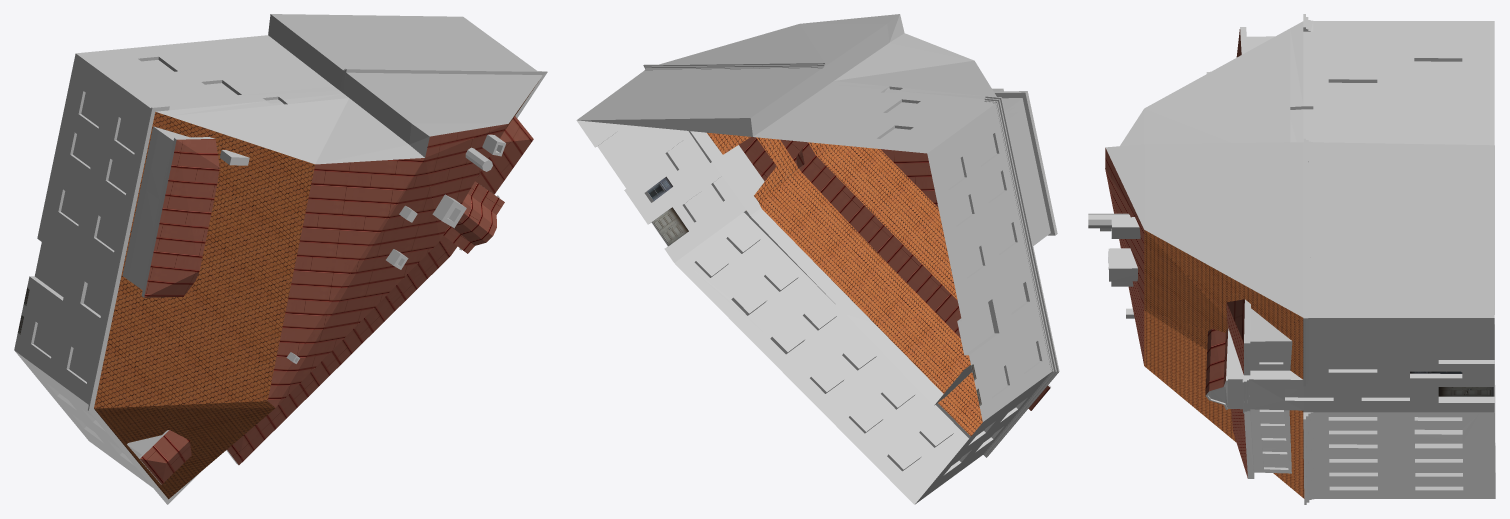
Rendered from Rahukohtu2.obj.
3 views of the same model, side by side, from view 1: azimuth 30°, elevation 25°; view 2: azimuth 150°, elevation 25°; view 3: azimuth 270°, elevation 25° (orthographic). The views are drawn at different scales.
Parts seen in each view (by area): view 1: RK2_Building; view 2: RK2_Building; view 3: RK2_Building.
Part boxes in pixels (x1,y1,x2,y2): RK2_Building: [14, 14, 547, 504]; RK2_Building: [576, 14, 1059, 504]; RK2_Building: [1088, 14, 1495, 504].
Size of the model in its own units: 28.77 by 24.02 by 18.42.
